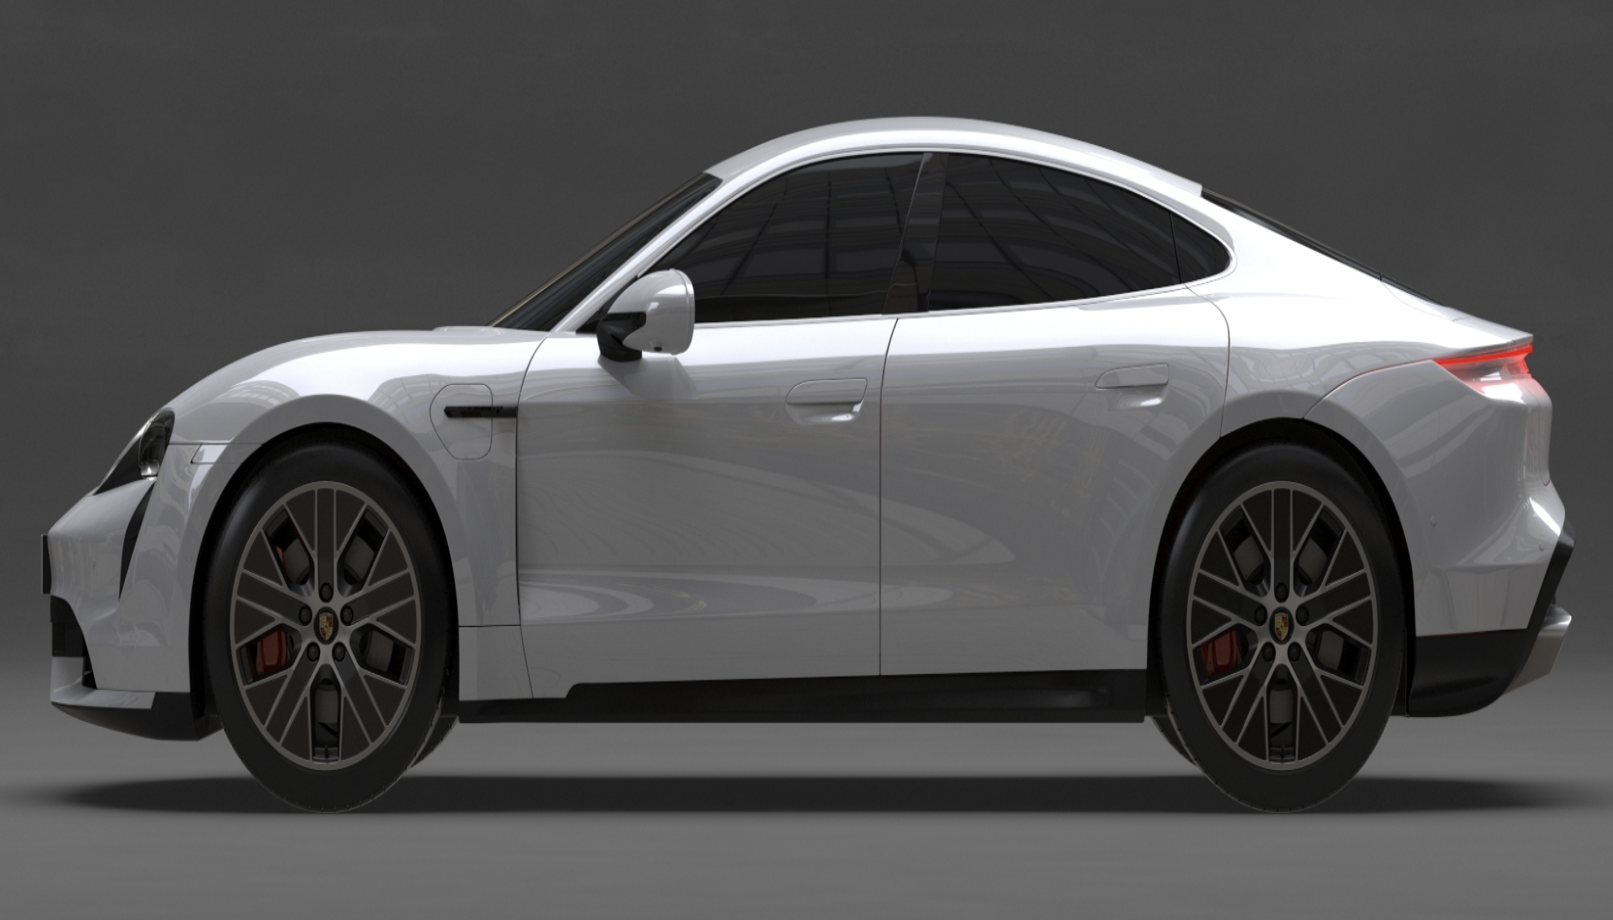hatch: (425, 379, 506, 466)
